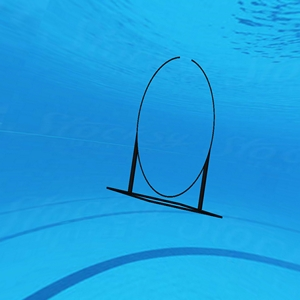circle: (106, 54, 224, 220)
